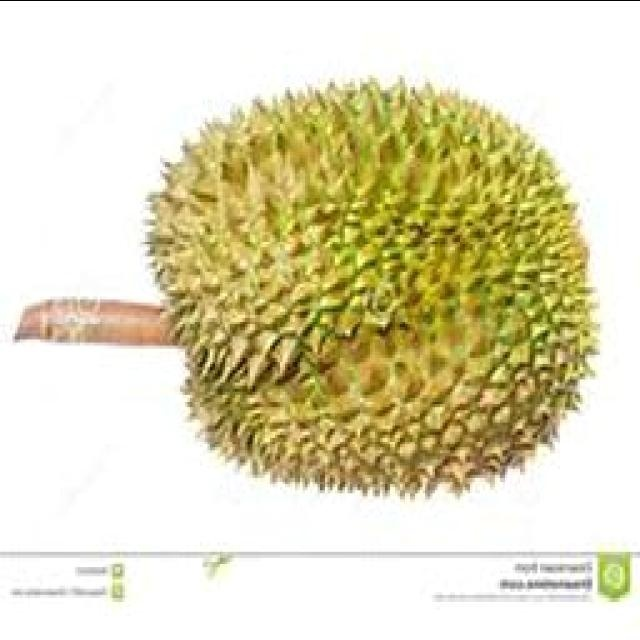agrume: (130, 89, 590, 511)
